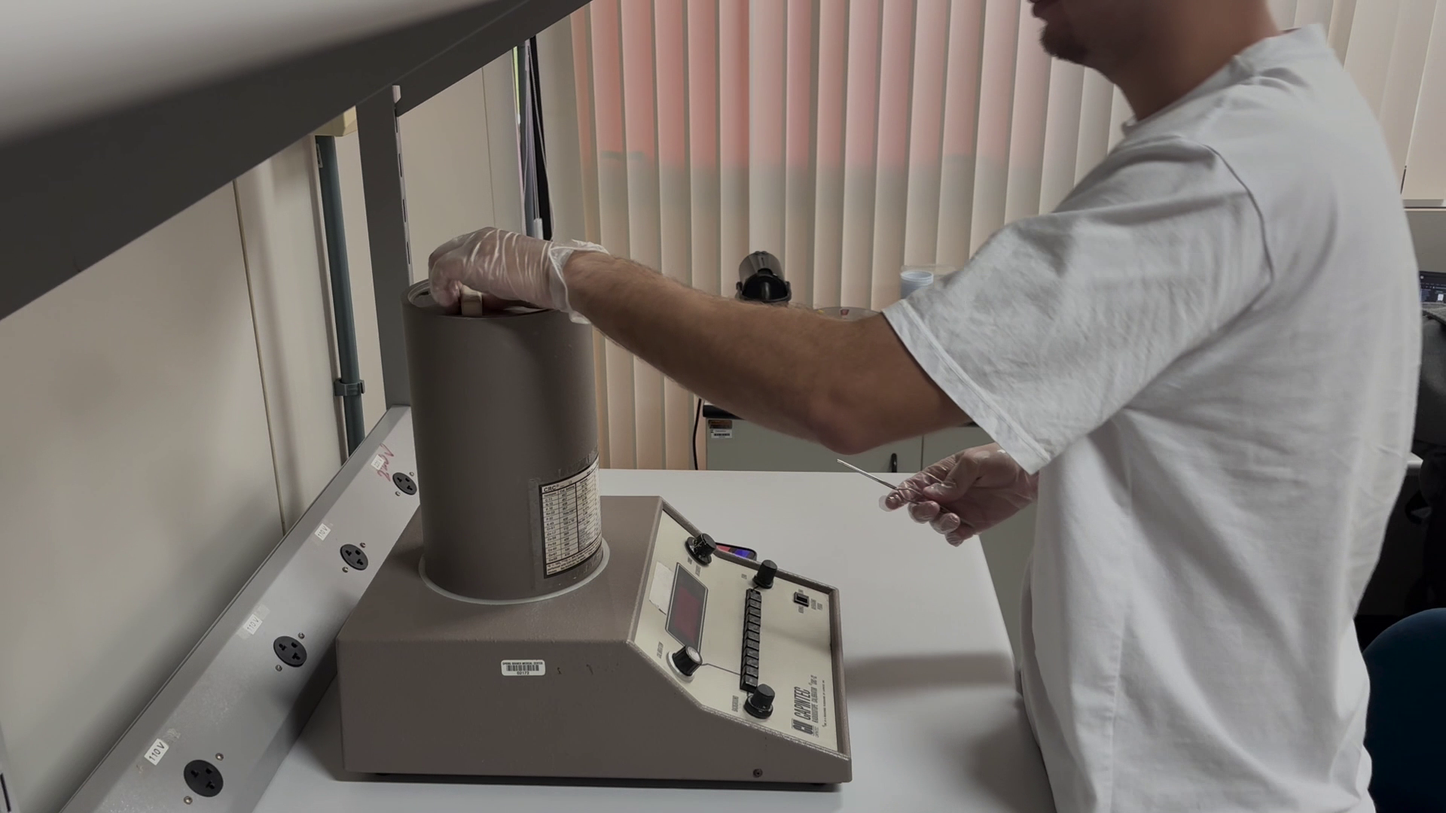Ativimetro: (398, 267, 609, 606)
Com_Luva: (879, 445, 1045, 547), (426, 223, 606, 317)
